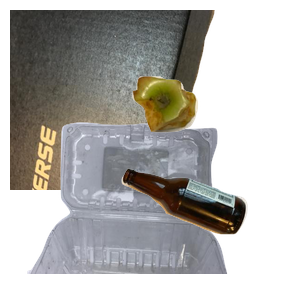cardboard: (10, 10, 217, 190)
glass: (119, 166, 300, 300)
plastic: (25, 120, 245, 300)
trash: (130, 74, 300, 199)
